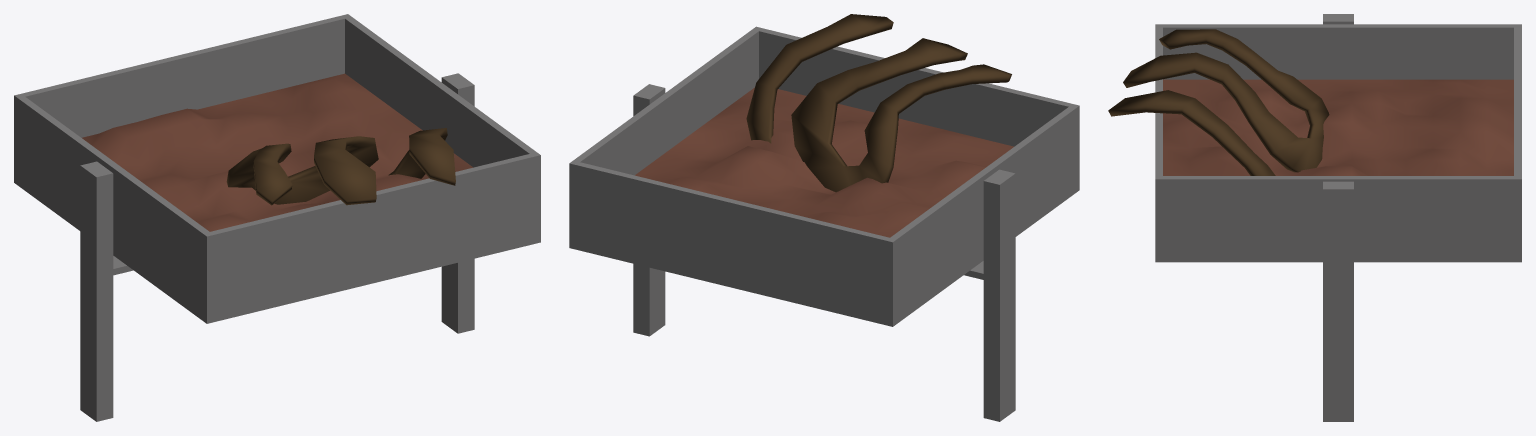
The model's file is hydroponics_tray.glb.
The picture shows the model from 3 angles, left to right: view 1: azimuth 30°, elevation 25°; view 2: azimuth 150°, elevation 25°; view 3: azimuth 270°, elevation 25°; orthographic projection. The views are drawn at different scales.
Parts seen in each view (by area): view 1: hydroponics_tray, hydroponics_plant; view 2: hydroponics_tray, hydroponics_plant; view 3: hydroponics_tray, hydroponics_plant.
Part boxes in pixels (x1,y1,x2,y2): hydroponics_tray: (14, 14, 540, 421); hydroponics_plant: (226, 128, 455, 205); hydroponics_tray: (569, 26, 1079, 421); hydroponics_plant: (746, 14, 1011, 192); hydroponics_tray: (1155, 14, 1521, 421); hydroponics_plant: (1108, 29, 1329, 175).
Bounding box in the file's own units: 1.13 × 0.7947 × 1.13.
